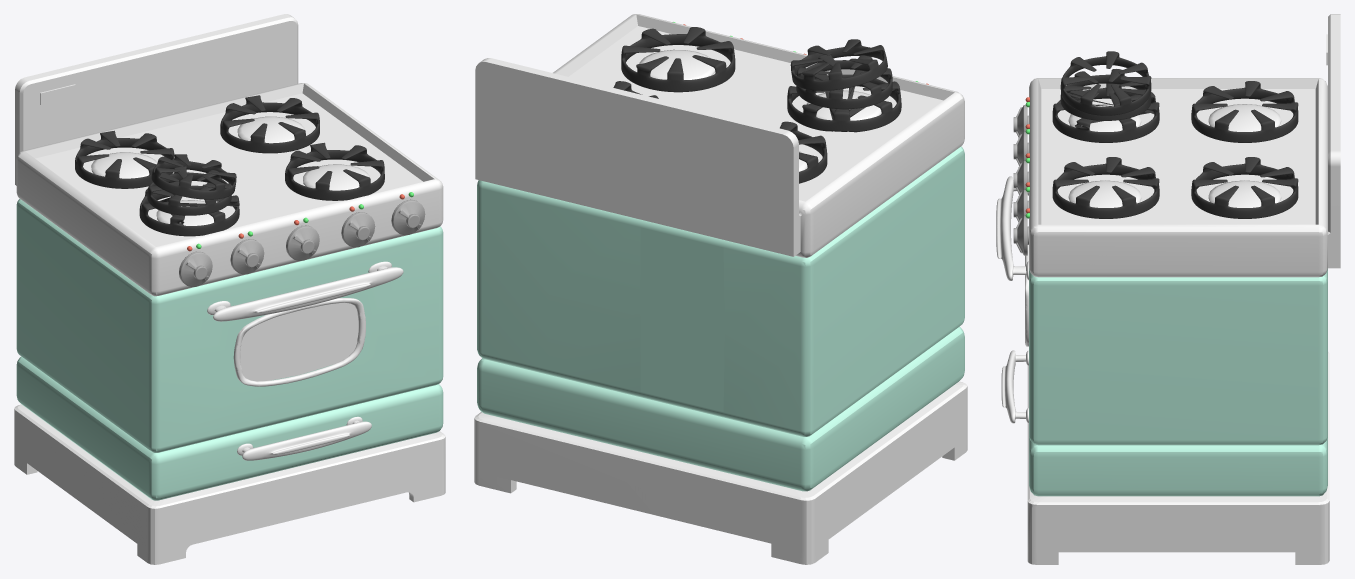
File: SM_stove.fbx
3 views of the same model, side by side, from view 1: azimuth 30°, elevation 25°; view 2: azimuth 150°, elevation 25°; view 3: azimuth 270°, elevation 25° (orthographic). The views are drawn at different scales.
Parts seen in each view (by area): view 1: pCube10, pCube9, polySurface4, pCube8, pPlane4, polySurface276, pSphere5, pCube16, pCylinder5, pCylinder4, pCylinder2, pCylinder3 (+4 smaller); view 2: pCube9, pCube10, polySurface4, pCube8, pCylinder4, pCylinder3, pCylinder7, pCylinder6, pSphere5, pCylinder2; view 3: pCube9, pCube10, polySurface4, pCube8, pSphere5, pCylinder4, pCylinder2, pCylinder5, pCylinder7, pCylinder3, polySurface276, pCylinder6 (+2 smaller).
Part boxes in pixels (x1,y1,x2,y2): pCube10: [15, 14, 443, 296]; pCube9: [16, 199, 443, 452]; polySurface4: [14, 404, 445, 564]; pCube8: [16, 356, 443, 500]; pPlane4: [240, 303, 358, 381]; polySurface276: [179, 199, 425, 286]; pSphere5: [91, 116, 369, 225]; pCube16: [207, 261, 403, 321]; pCylinder5: [220, 95, 319, 153]; pCylinder4: [285, 142, 384, 200]; pCylinder2: [75, 130, 174, 188]; pCylinder3: [139, 181, 239, 236]; pCube9: [477, 146, 964, 436]; pCube10: [475, 14, 964, 257]; polySurface4: [474, 381, 967, 564]; pCube8: [477, 327, 964, 491]; pCylinder4: [621, 27, 735, 92]; pCylinder3: [787, 70, 901, 132]; pCylinder7: [790, 39, 887, 90]; pCylinder6: [796, 55, 892, 109]; pSphere5: [639, 49, 881, 171]; pCylinder2: [780, 121, 827, 183]; pCube9: [1029, 268, 1327, 445]; pCube10: [1029, 14, 1340, 277]; polySurface4: [1027, 351, 1329, 564]; pCube8: [1029, 436, 1327, 496]; pSphere5: [1068, 104, 1281, 207]; pCylinder4: [1052, 157, 1159, 218]; pCylinder2: [1191, 81, 1298, 142]; pCylinder5: [1191, 157, 1298, 218]; pCylinder7: [1060, 51, 1151, 115]; pCylinder3: [1052, 83, 1159, 142]; polySurface276: [1013, 105, 1028, 255]; pCylinder6: [1060, 69, 1151, 120].
Bounding box in the file's own units: 7.42 × 9 × 6.95.
